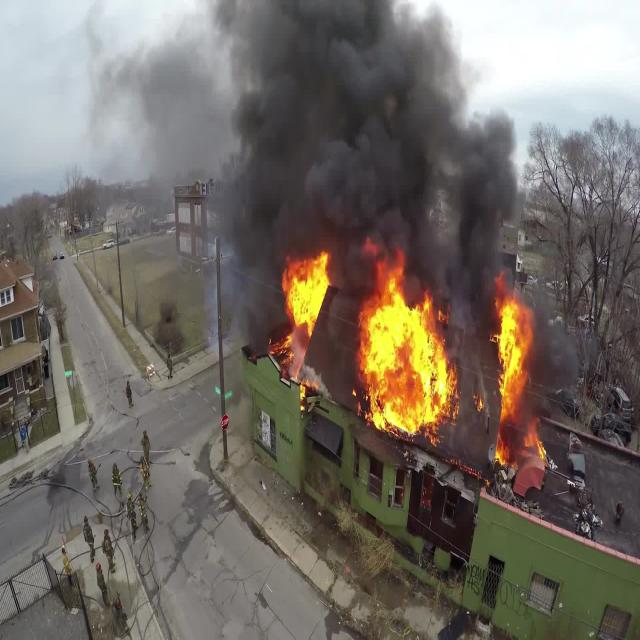fire: (369, 301, 438, 428), (288, 266, 328, 326)
smoke: (256, 13, 405, 244), (414, 111, 506, 297), (501, 304, 523, 411)
